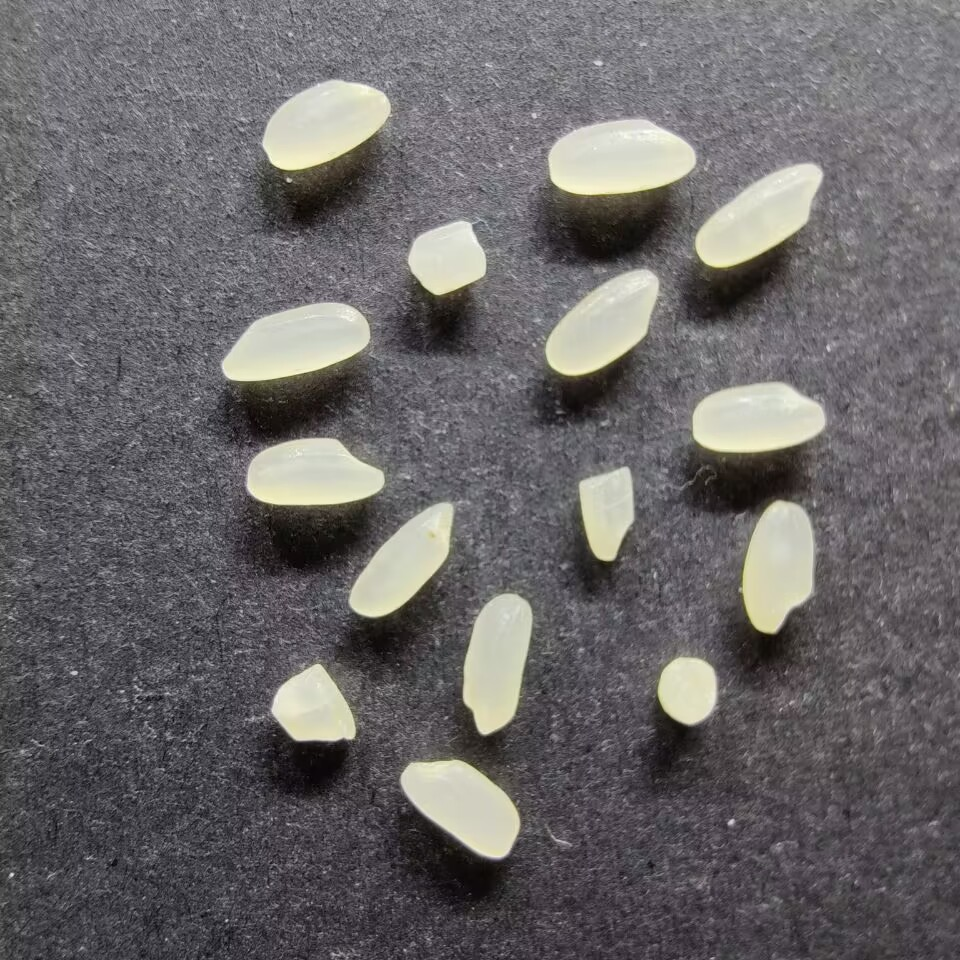broken: (269, 662, 357, 743), (407, 220, 486, 295), (578, 466, 635, 561), (656, 657, 717, 724)
rice: (694, 162, 823, 267), (347, 500, 454, 617), (545, 267, 658, 376), (399, 758, 519, 860), (220, 302, 370, 382), (262, 79, 389, 170), (547, 119, 696, 195), (462, 593, 532, 736), (741, 501, 814, 633), (246, 437, 384, 506), (691, 382, 826, 452)
